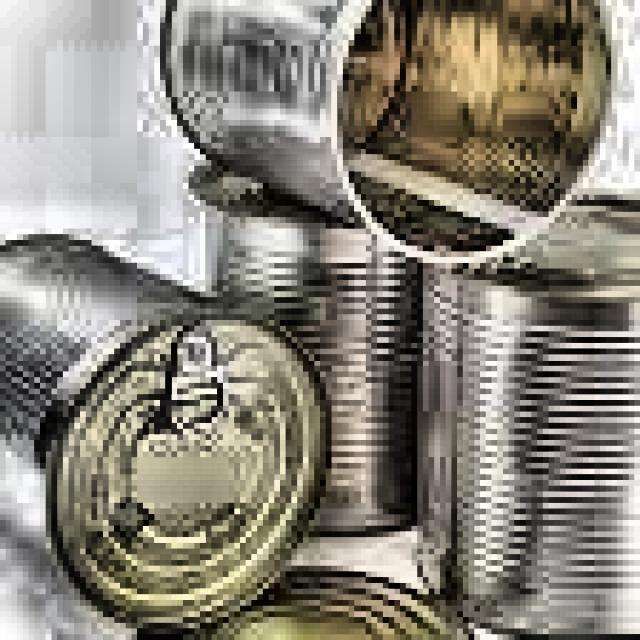metal: (0, 217, 331, 640), (137, 0, 629, 280), (180, 123, 443, 551), (411, 183, 640, 640), (108, 537, 503, 640)
